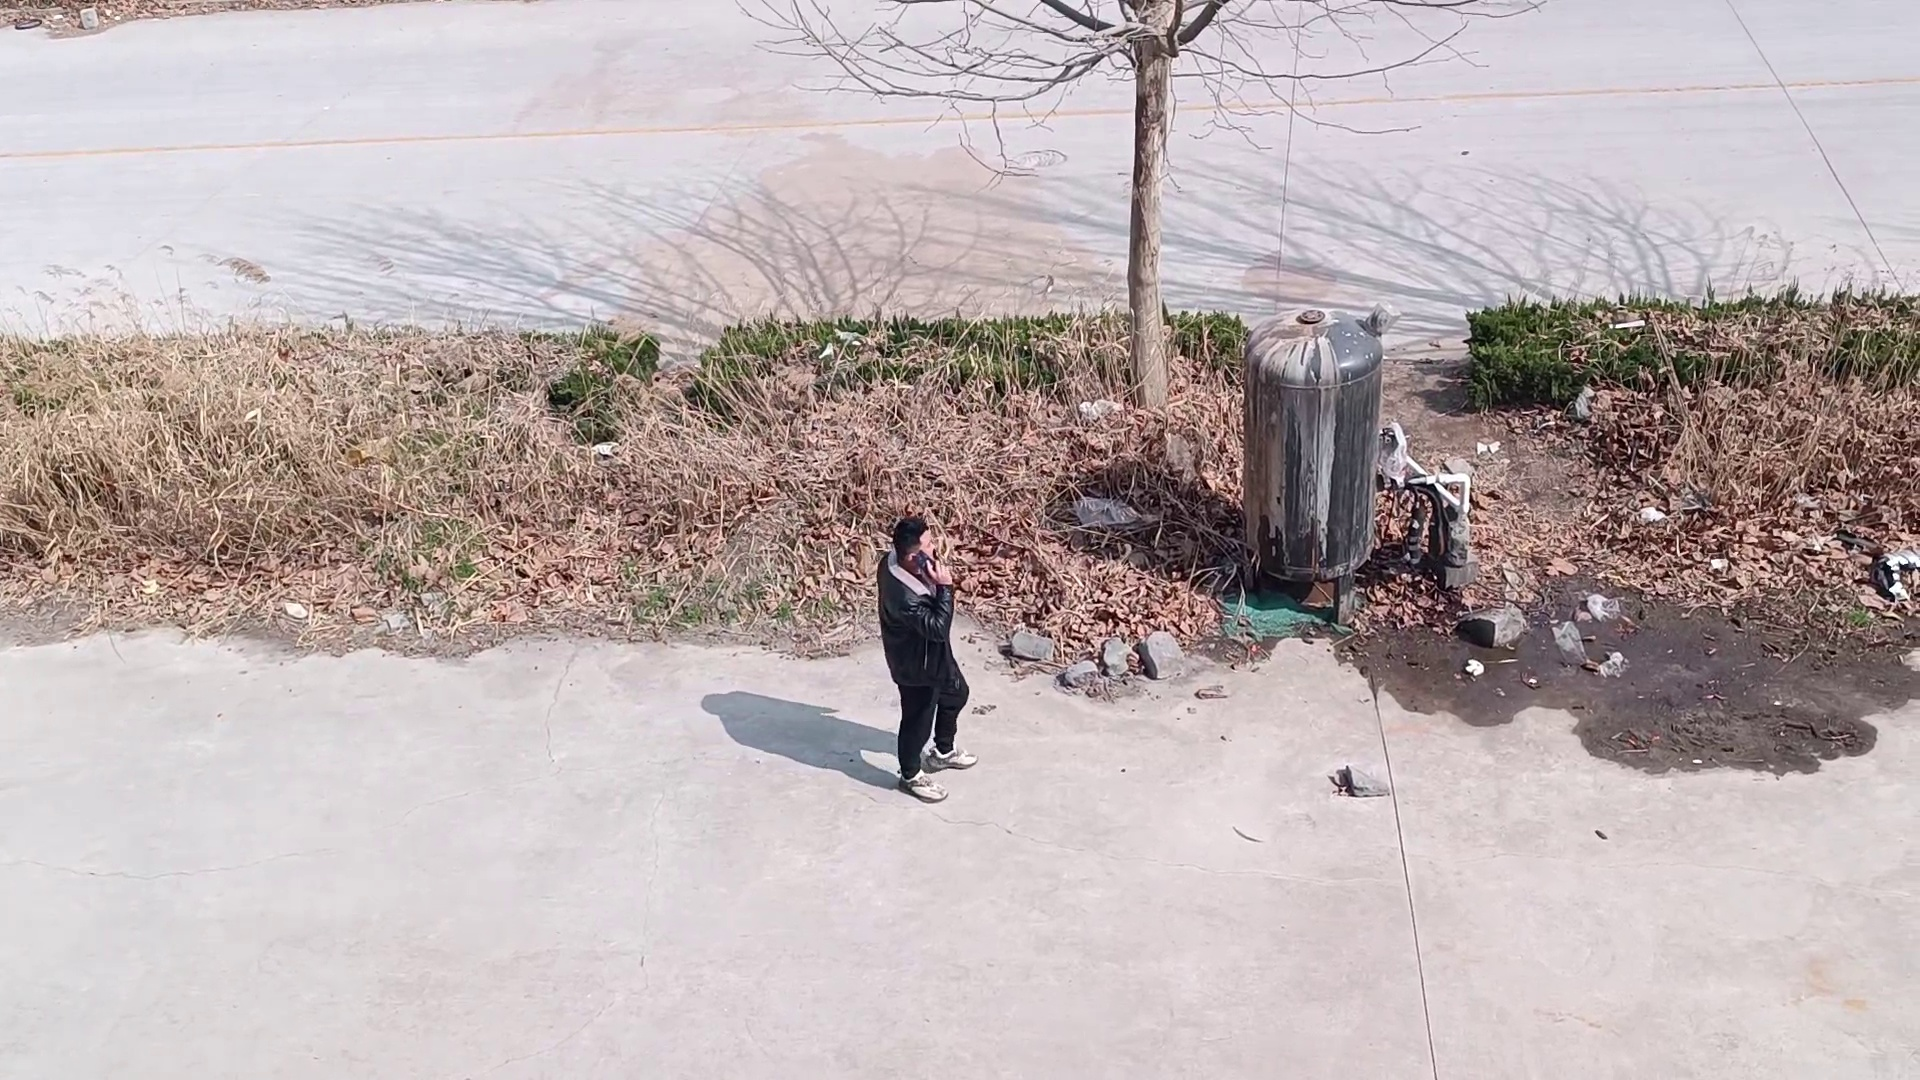phone: (895, 516, 945, 582)
